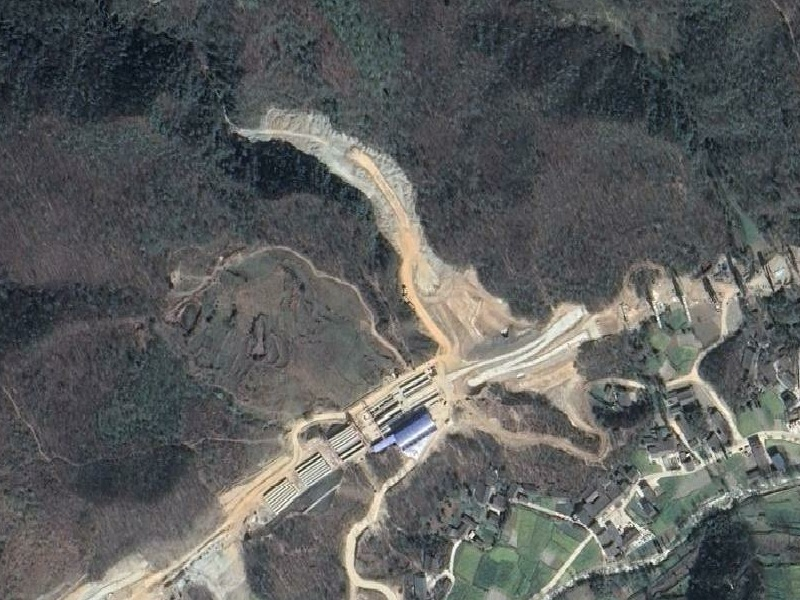slope: (237, 101, 524, 354), (489, 345, 614, 458), (438, 376, 492, 440)
